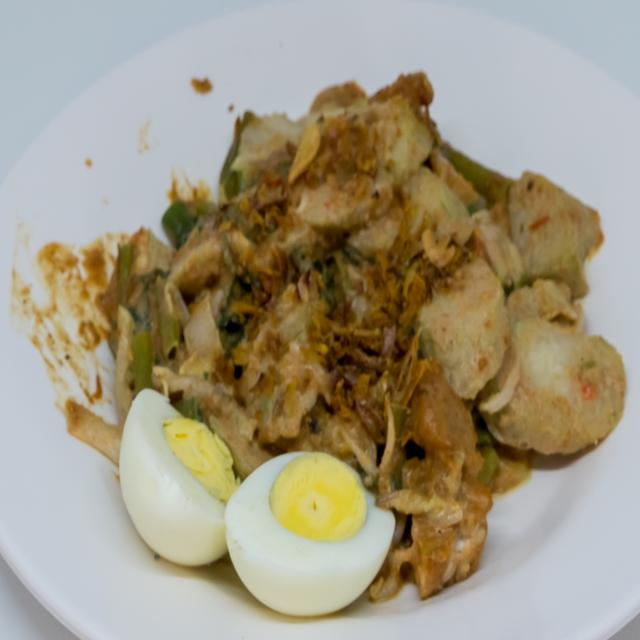Gado-Gado: (61, 46, 630, 625)
